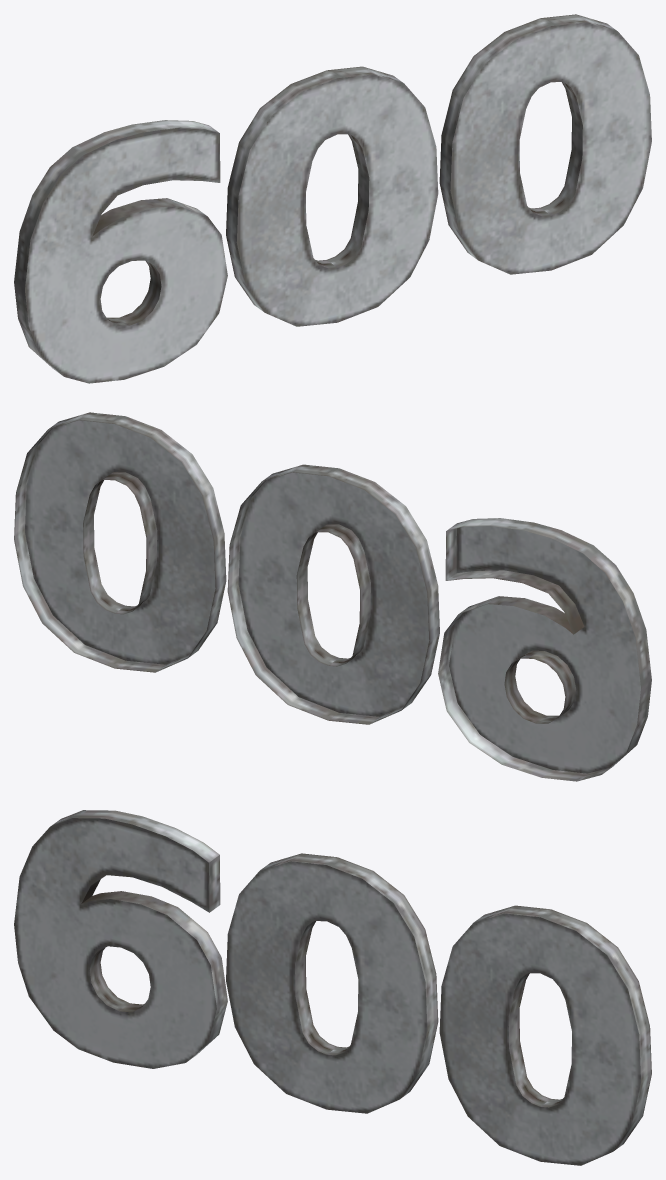
The model's file is categorySign600.FBX.
3 renders of one model, top to bottom at view 1: azimuth 30°, elevation 25°; view 2: azimuth 150°, elevation 25°; view 3: azimuth 330°, elevation 25°, orthographic.
Visible parts, largest first — view 1: SM_CategorySign600; view 2: SM_CategorySign600; view 3: SM_CategorySign600.
Part boxes in pixels (x1=…): SM_CategorySign600: x1=14, y1=14, x2=651, y2=383; SM_CategorySign600: x1=14, y1=412, x2=651, y2=781; SM_CategorySign600: x1=14, y1=810, x2=651, y2=1165.
Bounding box in the file's own units: 6.67 × 2.53 × 0.2.
1 material, 1 textured.
